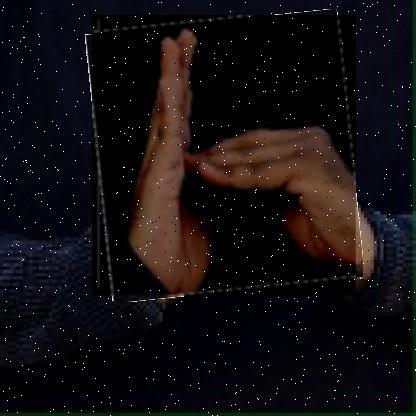Z: (92, 15, 357, 298)
